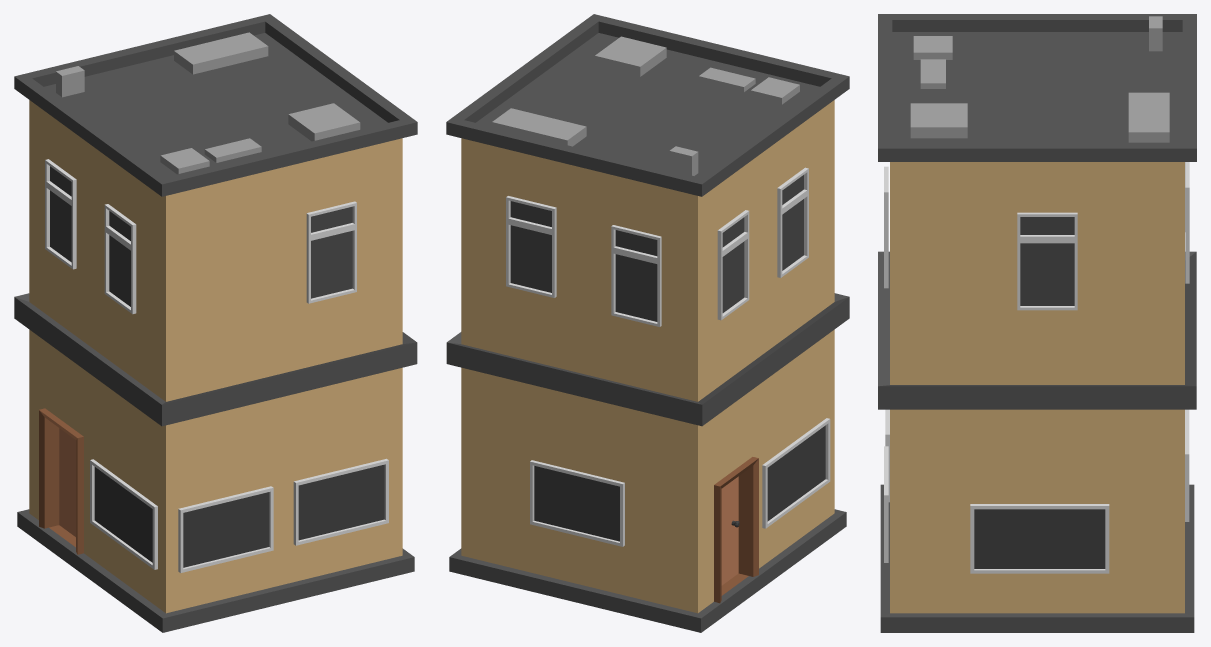
File: budynek1_1.fbx
The picture shows the model from 3 angles, left to right: view 1: azimuth 30°, elevation 25°; view 2: azimuth 150°, elevation 25°; view 3: azimuth 270°, elevation 25°; orthographic projection. The views are drawn at different scales.
Visible parts, largest first — view 1: Cube; view 2: Cube; view 3: Cube.
Part boxes in pixels (box(x1,y1,x2,y2)): Cube: box(14, 14, 417, 632); Cube: box(446, 14, 849, 632); Cube: box(878, 14, 1196, 632).
Size of the model in its own units: 2583 by 4437 by 2581.
